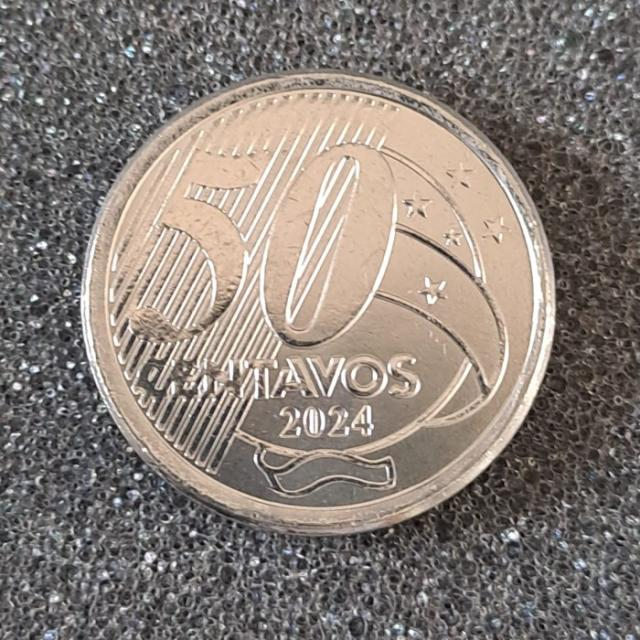50 cent: (87, 67, 541, 534)
